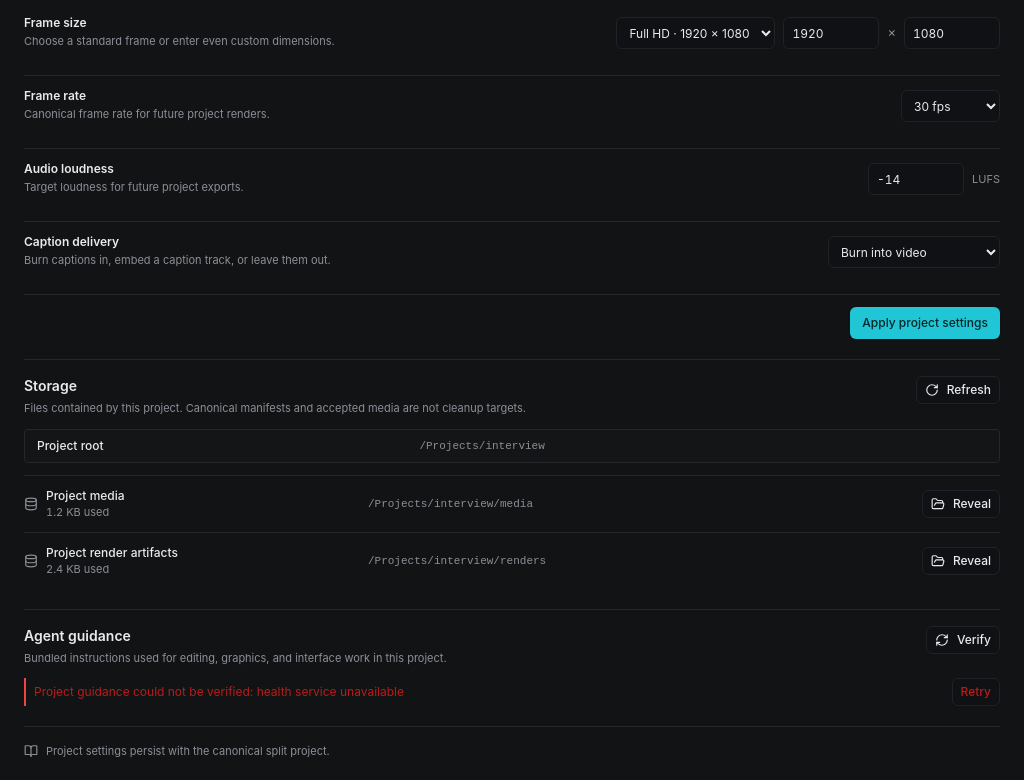
Test: ProjectSettings › retries guidance verification after the initial health request fails
(page scrolled)
Expected: the message shows "Project guidance could not be verified: health service unavailable", [24, 678, 1000, 706]
Click the button with aria-label "Retry project guidance" at (976, 692), box [952, 678, 1000, 706]
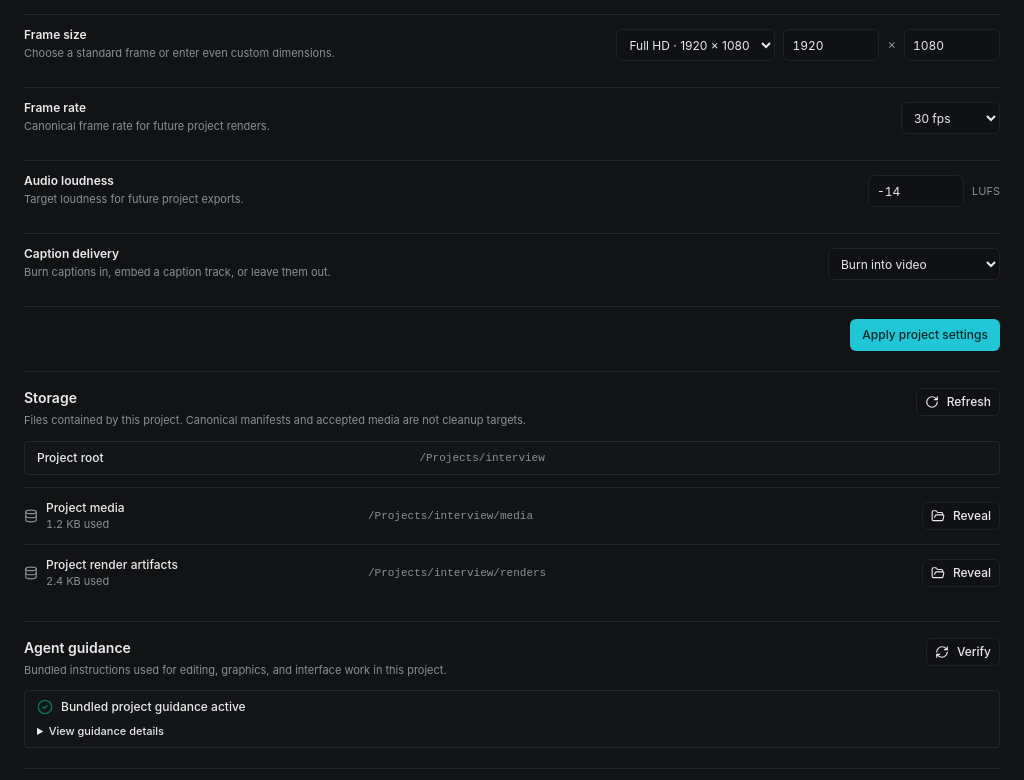
Expected: the button with aria-label "Verify project guidance" is enabled, [926, 638, 1000, 666]
Now the text "Bundled project guidance active" is shown, box [37, 699, 246, 715]
